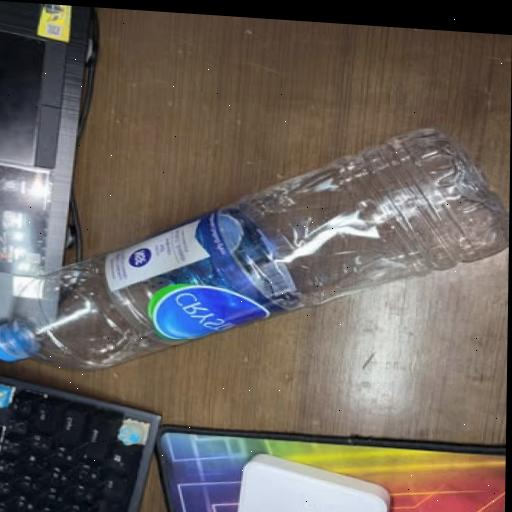ba: (0, 88, 511, 405)
